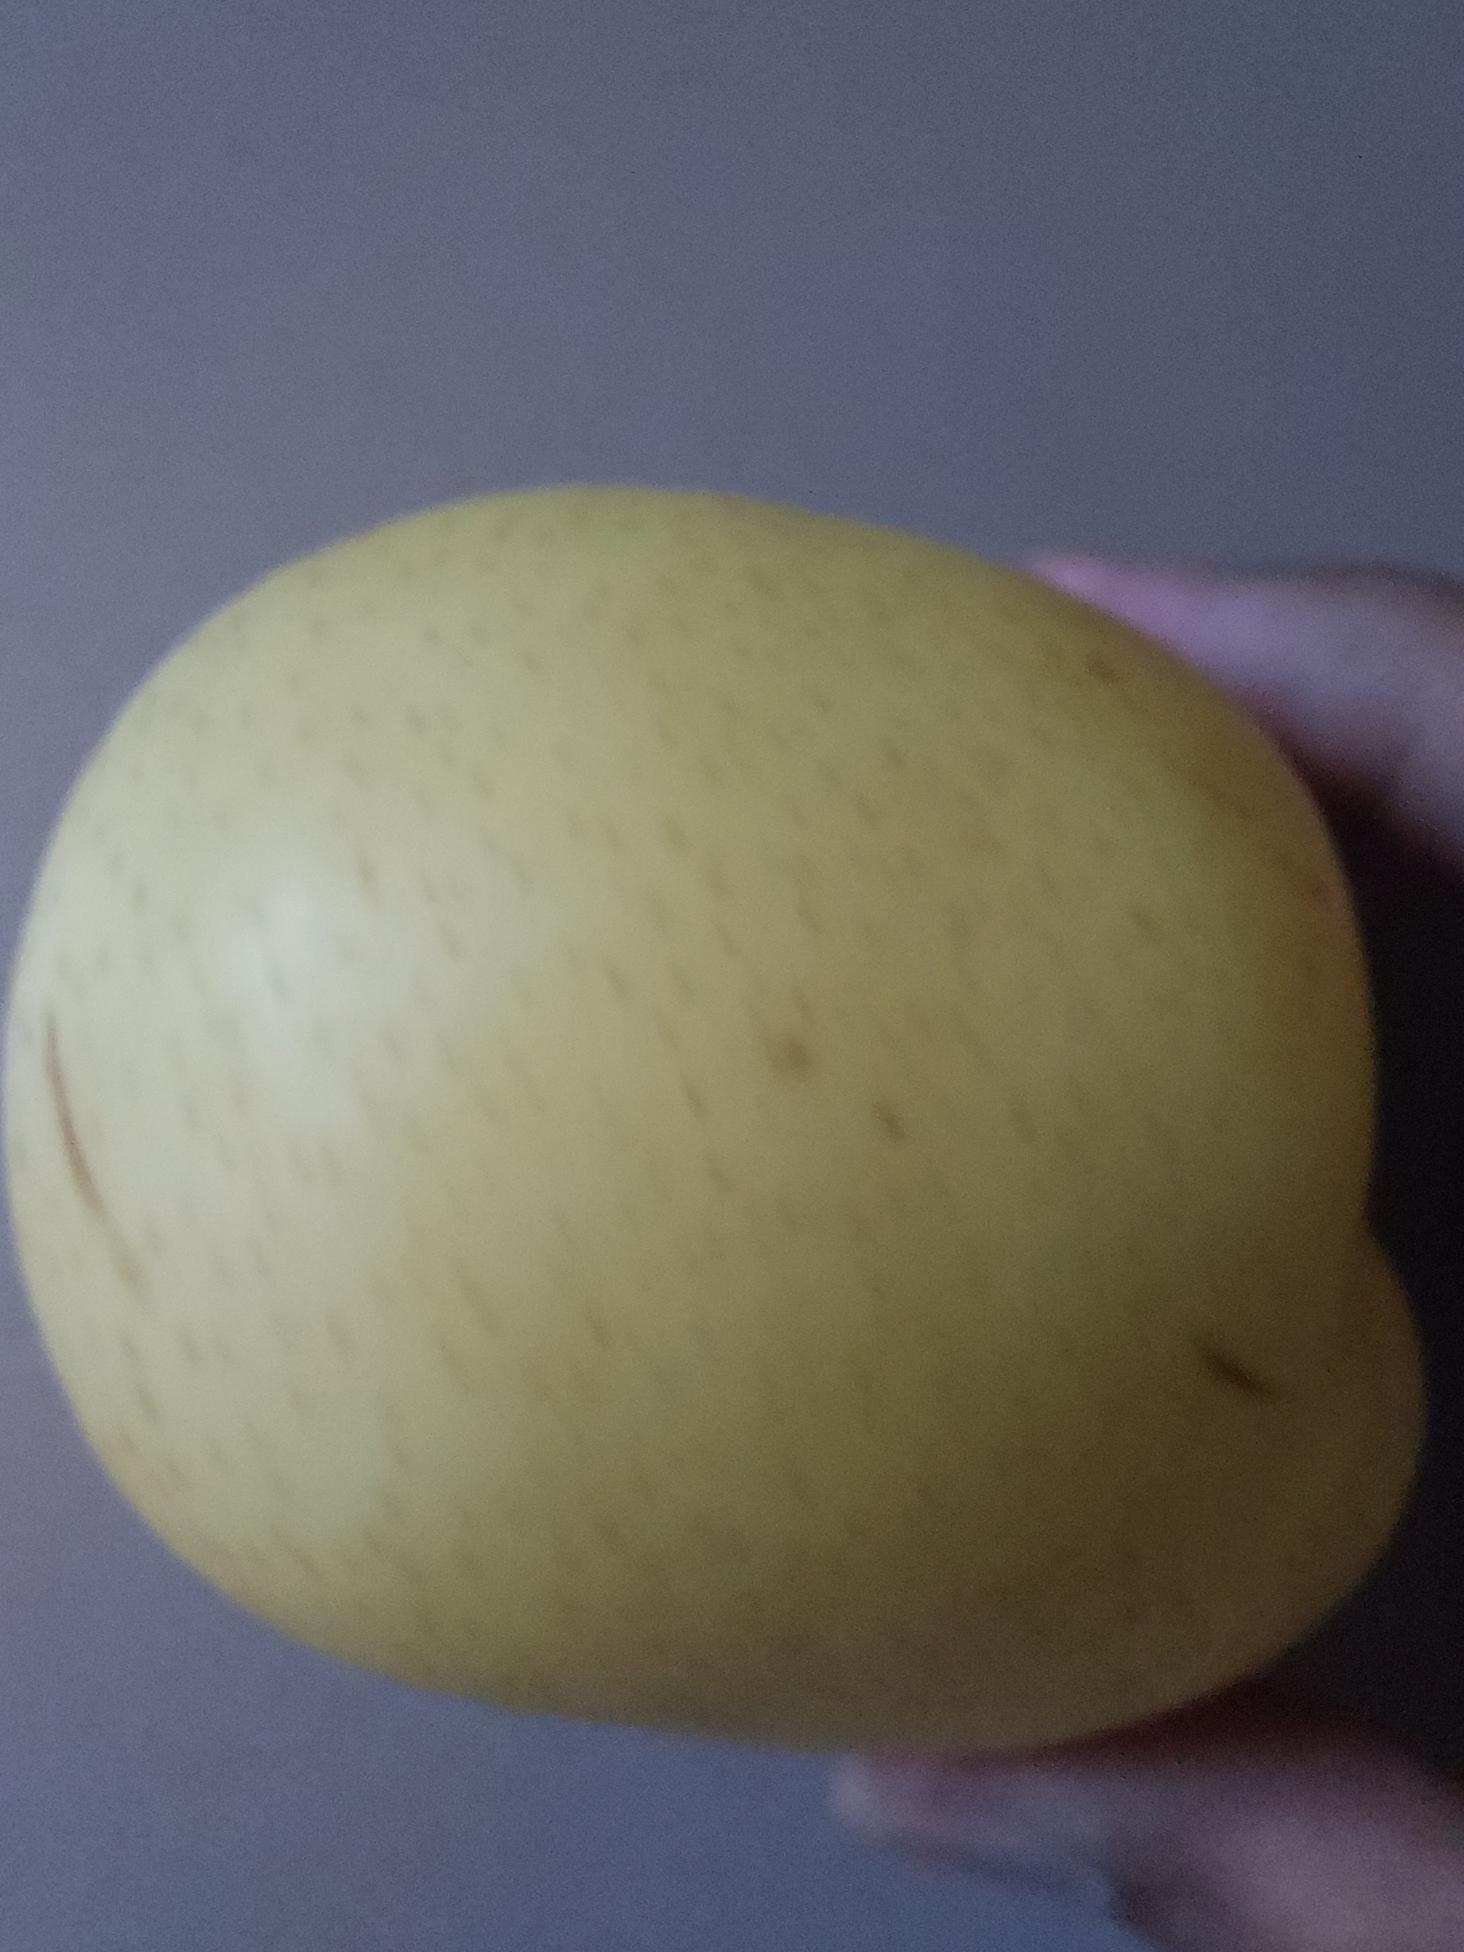Good Pear: (0, 473, 1442, 1772)
